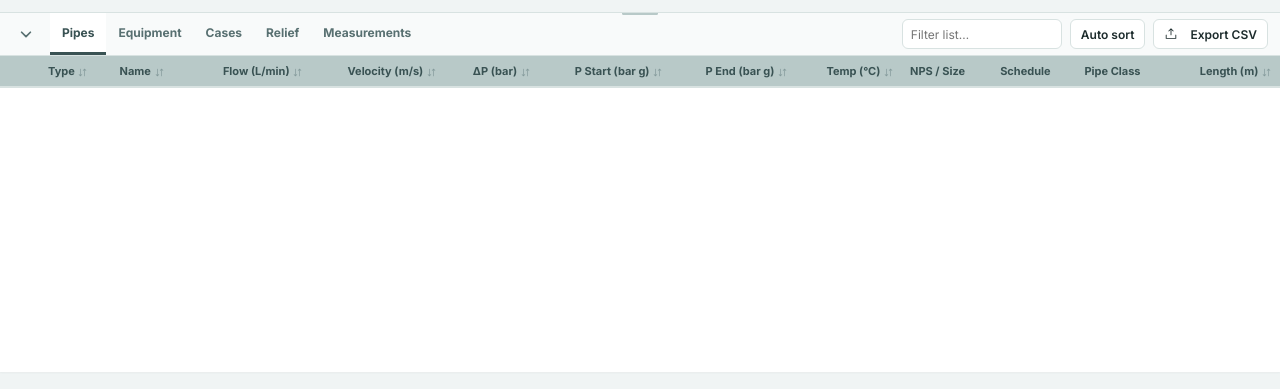
it: operating cases matrix in gauge basis › converts each case with its own atmospheric pressure, active case case_base
This screenshot has width=1280, height=389.
Click the button "Cases".
click(224, 34)  # box [194,13,254,55]
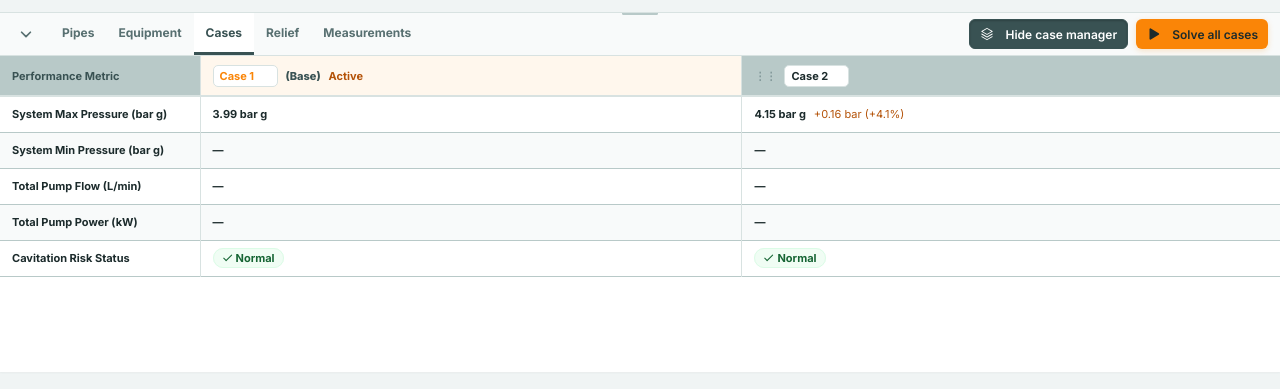
Result: the cell "4.15 bar g+0.16 bar (+4.1%)" is shown at [742,96,1279,132]
